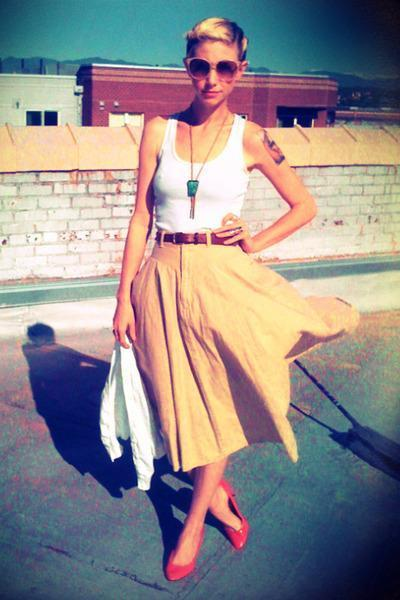bag: (100, 348, 155, 467)
shirt: (156, 112, 246, 233)
shoe: (167, 476, 249, 579)
skirt: (113, 214, 359, 467)
sunglass: (183, 36, 227, 74)
